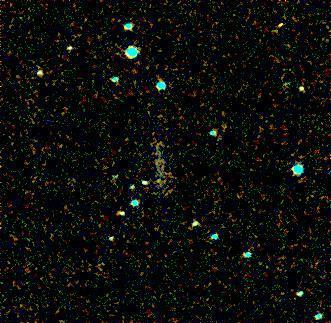star: (143, 166, 173, 196)
